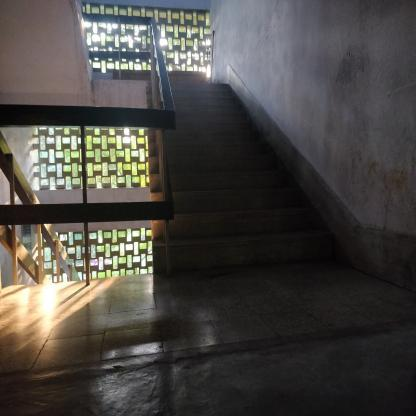stairs: (152, 168, 287, 274)
